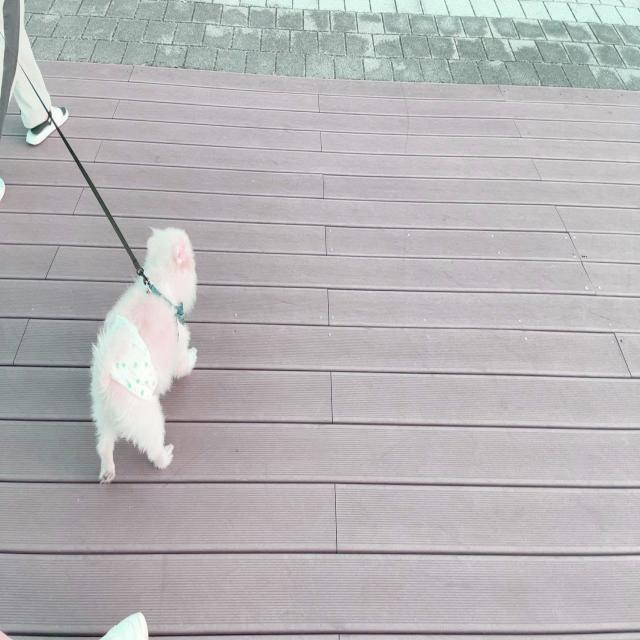Leashed_Dog: (0, 0, 198, 484)
